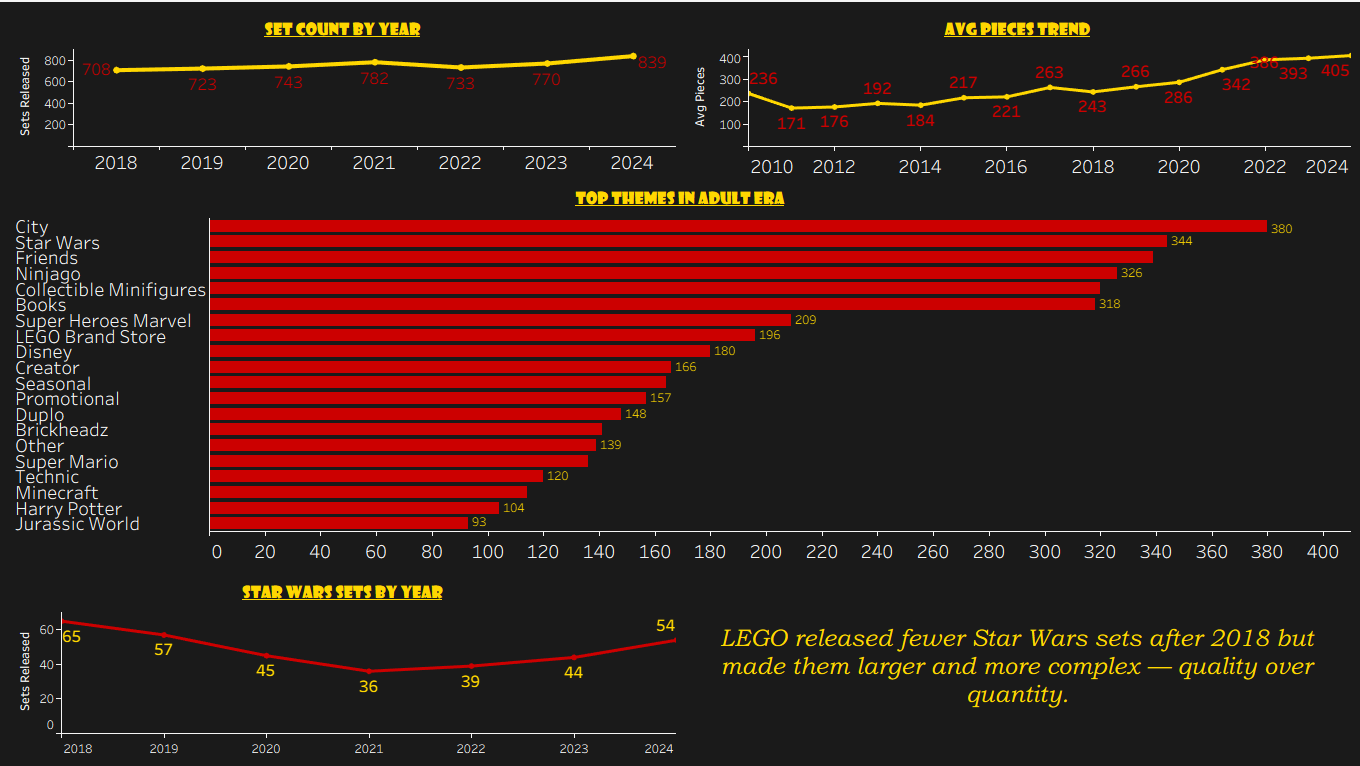

This screenshot's page, from the dashboard's own definition file:
{"tool":"tableau","page":{"name":"The 18+ Era","canvas":[1366,768],"ordinal":2},"visuals":[{"type":"worksheet","title":"Set Count by Year","mark":"Line","rows":["set_count"],"cols":["year"],"box":[8,8,675,169]},{"type":"worksheet","title":"Avg Pieces Trend","mark":"Automatic","rows":["avg_pieces_per_set"],"cols":["year"],"box":[683,8,675,169]},{"type":"worksheet","title":"Top Themes in Adult Era","mark":"Bar","rows":["theme"],"cols":["set_count"],"box":[8,177,1350,394.1]},{"type":"worksheet","title":"Star Wars Sets by Year","mark":"Automatic","rows":["sw_set_count"],"cols":["year"],"box":[8,571.1,675,188.9]},{"type":"text","box":[683,571.1,675,188.9]}]}

Visuals, with their boxes in screenshot pixels (x1, y1, x2, y2), scaled from the page's 1366x768 canvas onto the 1360x766 screenshot:
"Set Count by Year" worksheet (Line marks): box=[8, 8, 680, 177]
"Avg Pieces Trend" worksheet: box=[680, 8, 1352, 177]
"Top Themes in Adult Era" worksheet (Bar marks): box=[8, 177, 1352, 570]
"Star Wars Sets by Year" worksheet: box=[8, 570, 680, 758]
text: box=[680, 570, 1352, 758]
